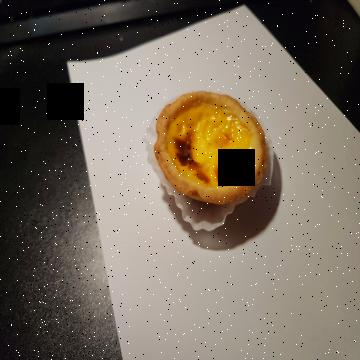EggTart: (152, 89, 269, 207)
